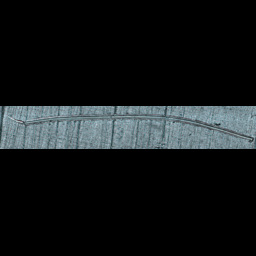d: (4, 112, 254, 144)
